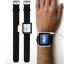watch: (36, 31, 54, 49), (21, 21, 33, 35)
